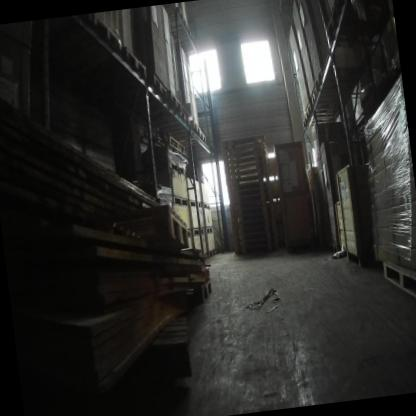pallet: (108, 201, 190, 258), (322, 0, 375, 51), (381, 256, 416, 308), (138, 128, 184, 162), (92, 10, 123, 57), (144, 123, 185, 158), (151, 315, 190, 351), (119, 44, 147, 82), (182, 276, 214, 305), (304, 98, 340, 117), (153, 159, 186, 179), (149, 73, 171, 102), (302, 110, 339, 127), (312, 66, 337, 90), (176, 128, 206, 147), (166, 6, 187, 31), (309, 85, 333, 106), (167, 188, 189, 209), (176, 119, 200, 137), (168, 90, 182, 115), (178, 107, 190, 128), (187, 197, 201, 208), (334, 0, 351, 9), (190, 226, 205, 236), (329, 242, 340, 253), (201, 200, 210, 211), (204, 225, 213, 235), (186, 226, 193, 238), (207, 247, 215, 257)
